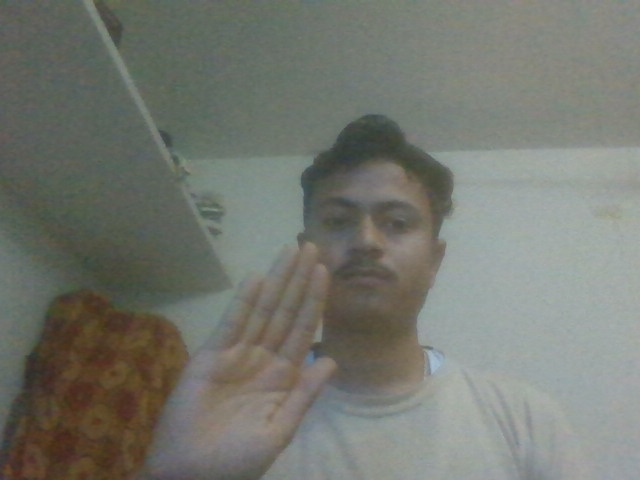Hello: (137, 226, 349, 480)
